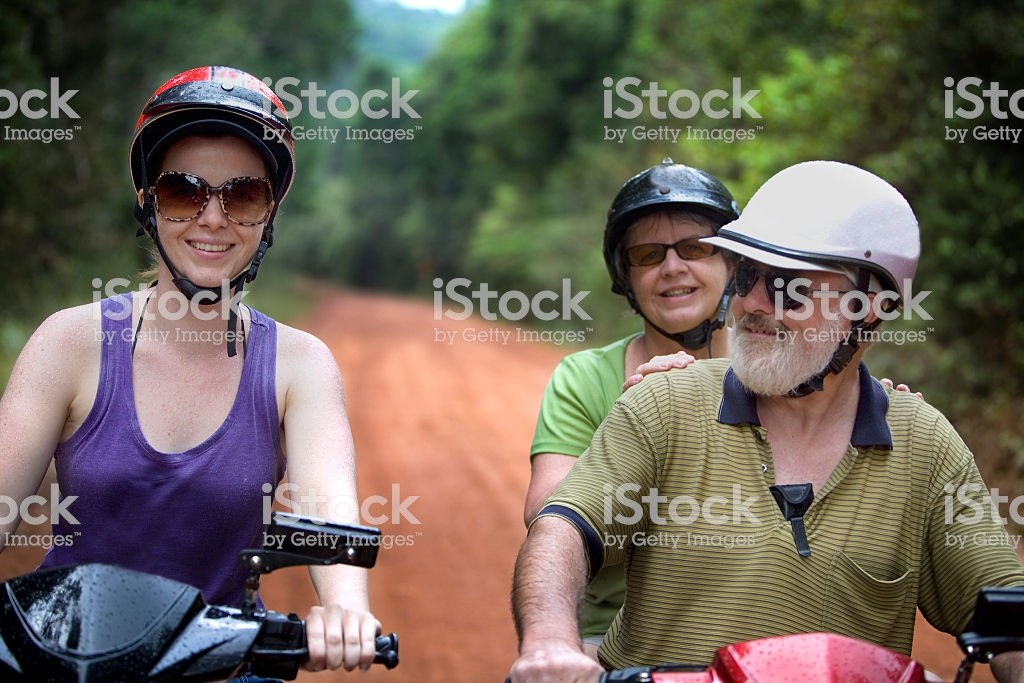helmet: (713, 156, 950, 314), (128, 67, 299, 173), (601, 162, 741, 249)
